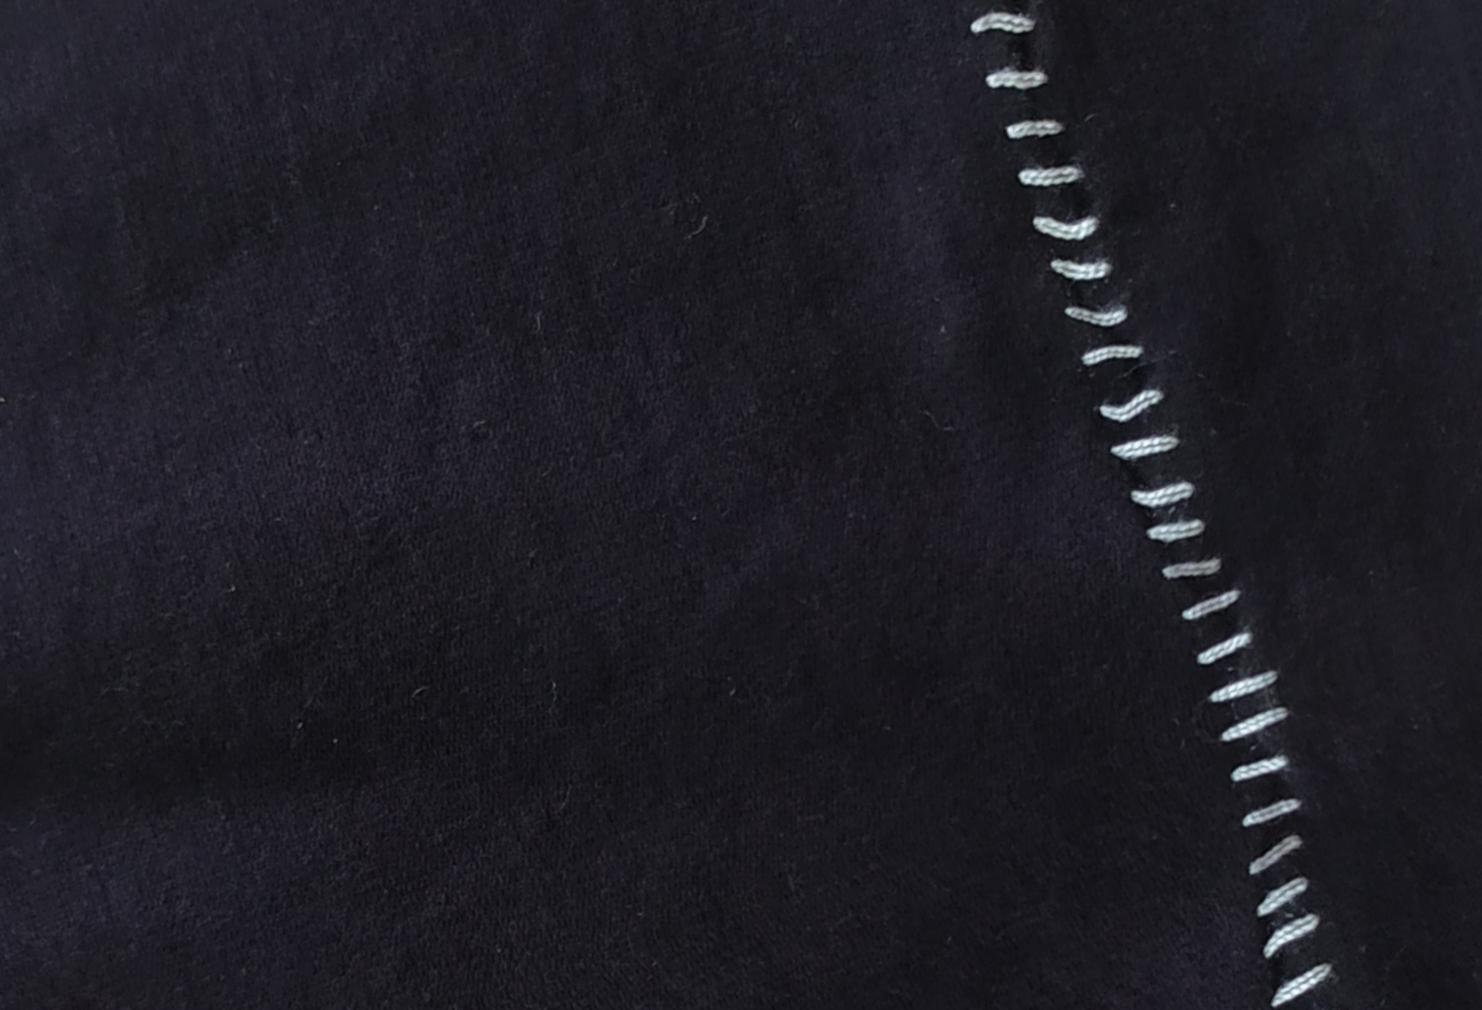slub: (949, 14, 1354, 1008)
